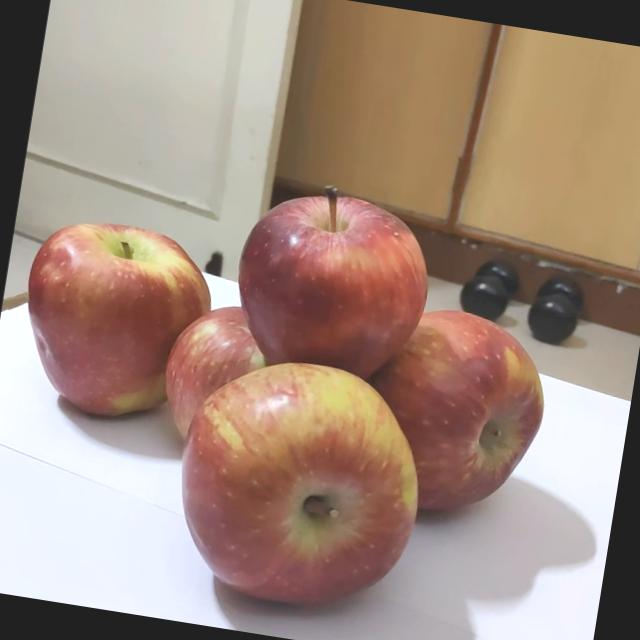apple: (138, 336, 424, 628), (324, 296, 555, 536), (0, 197, 221, 442), (207, 168, 430, 398)
